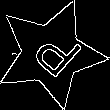P_SW: (19, 22, 82, 85)
